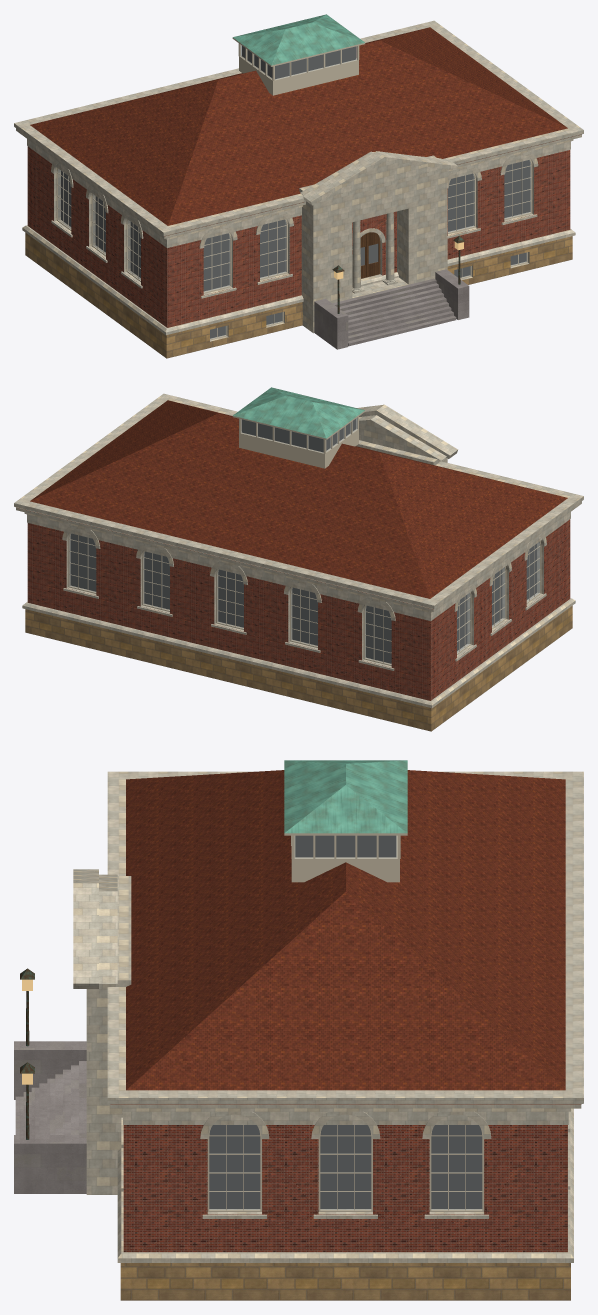
Rendered from library_hall.glb.
The picture shows the model from 3 angles, top to bottom: view 1: azimuth 30°, elevation 25°; view 2: azimuth 150°, elevation 25°; view 3: azimuth 270°, elevation 25°; orthographic projection. The views are drawn at different scales.
Parts seen in each view (by area): view 1: Roof, Main storey, Entrance pavilion, Cornices, Raised basement, Glazing, Lantern, Window frames, Lamp standards, Dressings, Columns, Doors; view 2: Roof, Main storey, Cornices, Raised basement, Glazing, Lantern, Entrance pavilion, Window frames, Dressings; view 3: Roof, Main storey, Cornices, Raised basement, Entrance pavilion, Lantern, Glazing, Lamp standards, Dressings, Window frames.
Part boxes in pixels (bbox=[...]): Roof: bbox=[16, 27, 581, 238]; Main storey: bbox=[27, 146, 570, 327]; Entrance pavilion: bbox=[299, 151, 457, 346]; Cornices: bbox=[14, 20, 583, 335]; Raised basement: bbox=[25, 232, 572, 358]; Glazing: bbox=[58, 160, 530, 338]; Lantern: bbox=[232, 14, 365, 95]; Window frames: bbox=[56, 159, 532, 340]; Lamp standards: bbox=[314, 236, 469, 349]; Dressings: bbox=[51, 151, 538, 298]; Columns: bbox=[352, 212, 397, 293]; Doors: bbox=[360, 232, 380, 278]; Roof: bbox=[16, 400, 581, 611]; Main storey: bbox=[27, 519, 570, 700]; Cornices: bbox=[14, 393, 583, 708]; Raised basement: bbox=[25, 605, 572, 731]; Glazing: bbox=[69, 533, 539, 664]; Lantern: bbox=[232, 387, 365, 468]; Entrance pavilion: bbox=[356, 404, 457, 465]; Window frames: bbox=[68, 533, 541, 665]; Dressings: bbox=[62, 525, 546, 670]; Roof: bbox=[110, 770, 581, 1108]; Main storey: bbox=[123, 1125, 567, 1252]; Cornices: bbox=[107, 771, 583, 1262]; Raised basement: bbox=[120, 1263, 570, 1300]; Entrance pavilion: bbox=[15, 869, 131, 1194]; Lantern: bbox=[284, 760, 407, 882]; Glazing: bbox=[209, 1125, 481, 1209]; Lamp standards: bbox=[14, 968, 86, 1193]; Dressings: bbox=[121, 1111, 570, 1218]; Window frames: bbox=[207, 1125, 483, 1211].
Size of the model in its own units: 31.3 by 16.47 by 23.1.
13 materials, 13 textured.
